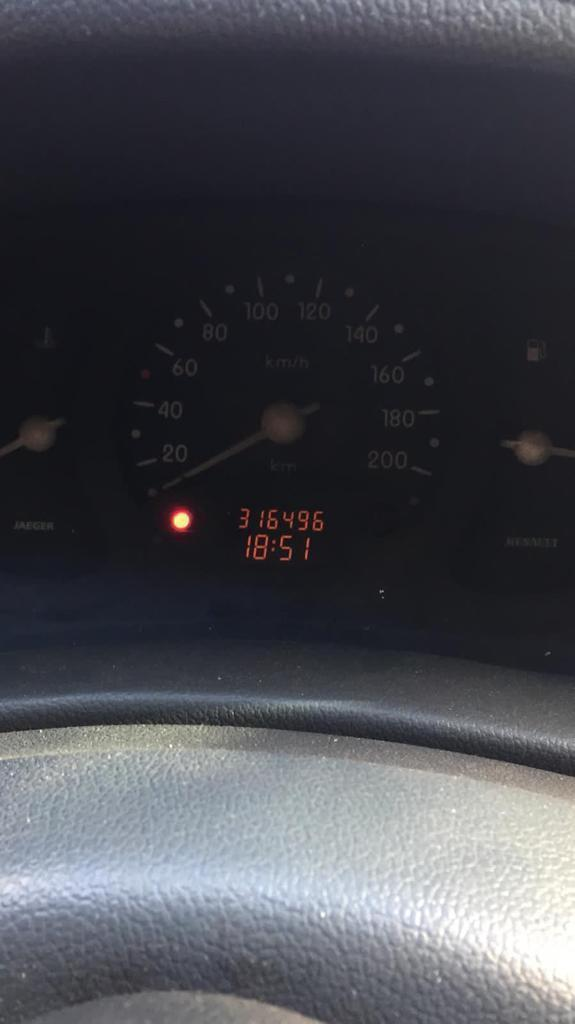1: (301, 535, 312, 561), (244, 533, 251, 559), (258, 508, 265, 529)
3: (239, 507, 250, 529)
4: (282, 510, 294, 529)
5: (279, 534, 293, 561)
6: (266, 508, 279, 530), (312, 509, 324, 531)
8: (252, 533, 268, 561)
9: (297, 509, 309, 530)
X: (270, 538, 276, 554)
odometer: (217, 497, 337, 568)
